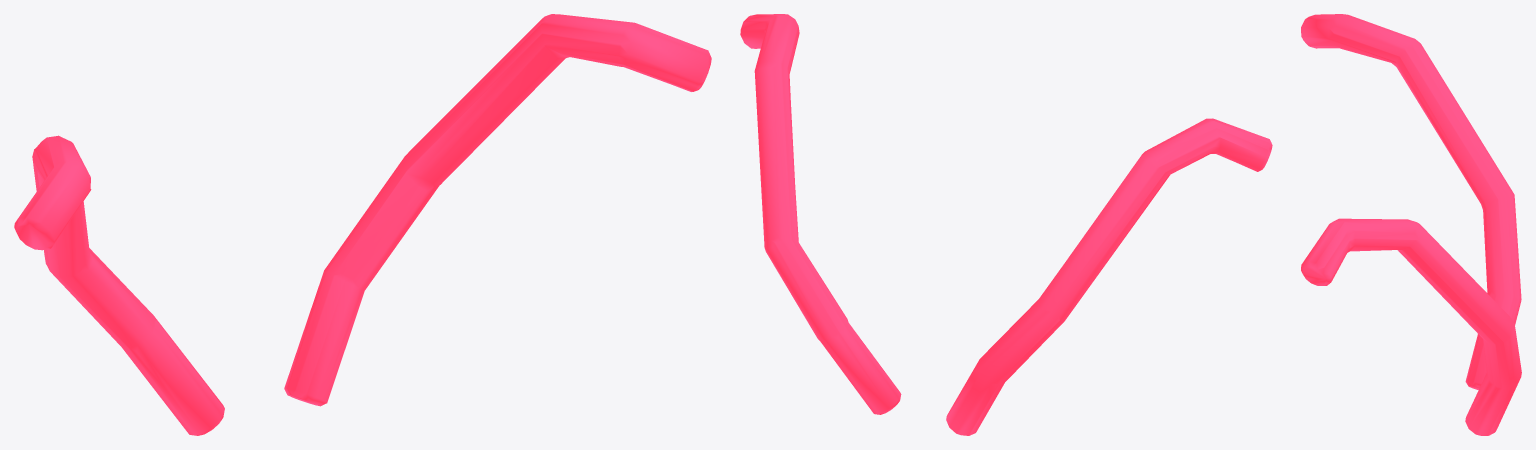
File: Remache_Arnes_LiquidoRojo.fbx
3 views of the same model, side by side, from view 1: azimuth 30°, elevation 25°; view 2: azimuth 150°, elevation 25°; view 3: azimuth 270°, elevation 25° (orthographic). The views are drawn at different scales.
Parts seen in each view (by area): view 1: Remache_Arnes_LiquidoRojo; view 2: Remache_Arnes_LiquidoRojo; view 3: Remache_Arnes_LiquidoRojo.
Boxes of the visible parts, x1,y1,x2,y2 form: Remache_Arnes_LiquidoRojo: [14, 14, 711, 435]; Remache_Arnes_LiquidoRojo: [740, 14, 1272, 435]; Remache_Arnes_LiquidoRojo: [1301, 14, 1521, 435].
Size of the model in its own units: 3.64 by 1.99 by 1.35.
